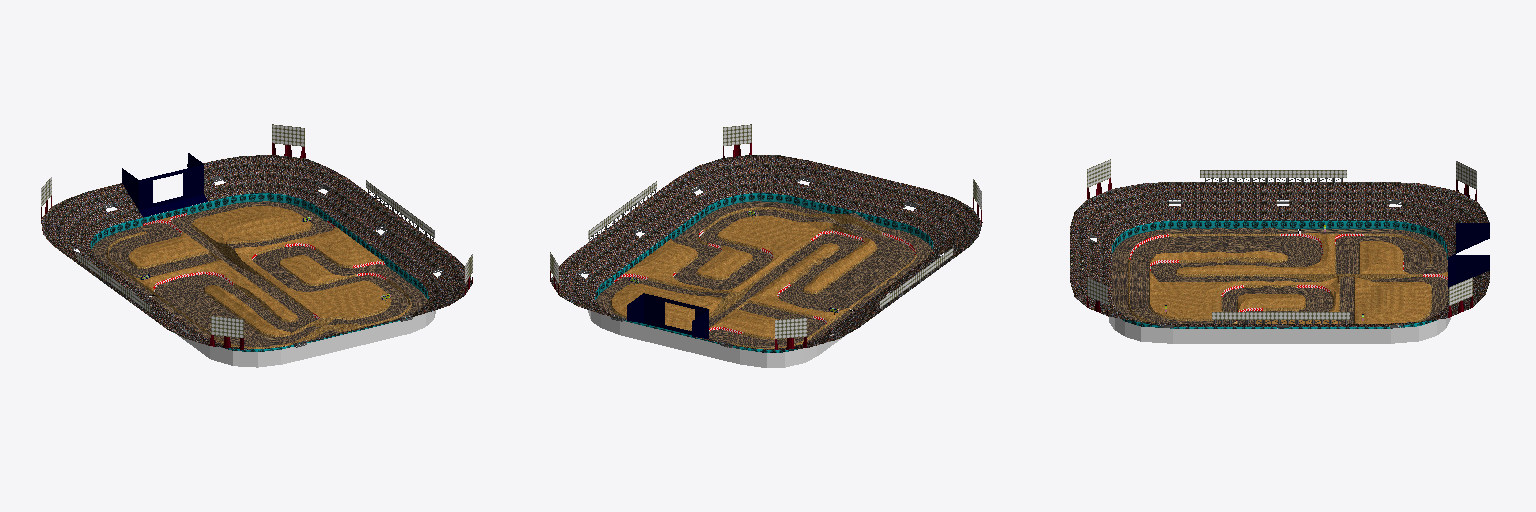
3 views of the same model, side by side, from view 1: azimuth 30°, elevation 25°; view 2: azimuth 150°, elevation 25°; view 3: azimuth 270°, elevation 25° (orthographic).
Visible parts, largest first — view 1: Shape_IndexedFaceSet.053, Shape_IndexedFaceSet.087, Shape_IndexedFaceSet.150, Shape_IndexedFaceSet.100, Shape_IndexedFaceSet.044, Shape_IndexedFaceSet.170, Shape_IndexedFaceSet.055, Shape_IndexedFaceSet.034, Shape_IndexedFaceSet.129; view 2: Shape_IndexedFaceSet.053, Shape_IndexedFaceSet.087, Shape_IndexedFaceSet.150, Shape_IndexedFaceSet.044, Shape_IndexedFaceSet.100, Shape_IndexedFaceSet.170, Shape_IndexedFaceSet.055, Shape_IndexedFaceSet.034, Shape_IndexedFaceSet.129; view 3: Shape_IndexedFaceSet.053, Shape_IndexedFaceSet.087, Shape_IndexedFaceSet.150, Shape_IndexedFaceSet.044, Shape_IndexedFaceSet.055, Shape_IndexedFaceSet.170, Shape_IndexedFaceSet.100, Shape_IndexedFaceSet.034, Shape_IndexedFaceSet.129.
Boxes of the visible parts, box(x1,y1,x2,y2) form: Shape_IndexedFaceSet.053: box(41, 155, 471, 349); Shape_IndexedFaceSet.087: box(91, 201, 427, 346); Shape_IndexedFaceSet.150: box(129, 206, 390, 334); Shape_IndexedFaceSet.100: box(106, 224, 410, 348); Shape_IndexedFaceSet.044: box(130, 290, 435, 367); Shape_IndexedFaceSet.170: box(90, 193, 428, 351); Shape_IndexedFaceSet.055: box(41, 124, 472, 337); Shape_IndexedFaceSet.034: box(122, 153, 207, 216); Shape_IndexedFaceSet.129: box(143, 213, 386, 318); Shape_IndexedFaceSet.053: box(551, 155, 981, 350); Shape_IndexedFaceSet.087: box(596, 201, 932, 347); Shape_IndexedFaceSet.150: box(611, 216, 875, 336); Shape_IndexedFaceSet.044: box(588, 293, 889, 367); Shape_IndexedFaceSet.100: box(610, 207, 916, 348); Shape_IndexedFaceSet.170: box(595, 193, 933, 352); Shape_IndexedFaceSet.055: box(550, 124, 981, 338); Shape_IndexedFaceSet.034: box(627, 293, 709, 339); Shape_IndexedFaceSet.129: box(614, 230, 915, 333); Shape_IndexedFaceSet.053: box(1070, 182, 1489, 326); Shape_IndexedFaceSet.087: box(1112, 227, 1447, 324); Shape_IndexedFaceSet.150: box(1150, 233, 1447, 325); Shape_IndexedFaceSet.044: box(1109, 317, 1450, 343); Shape_IndexedFaceSet.055: box(1087, 159, 1476, 319); Shape_IndexedFaceSet.170: box(1112, 220, 1447, 328); Shape_IndexedFaceSet.100: box(1128, 234, 1431, 323); Shape_IndexedFaceSet.034: box(1448, 223, 1489, 288); Shape_IndexedFaceSet.129: box(1129, 234, 1447, 320).
Bounding box in the file's own units: 14.58 × 3.23 × 18.22.
Materials: 18 (17 with a texture image).